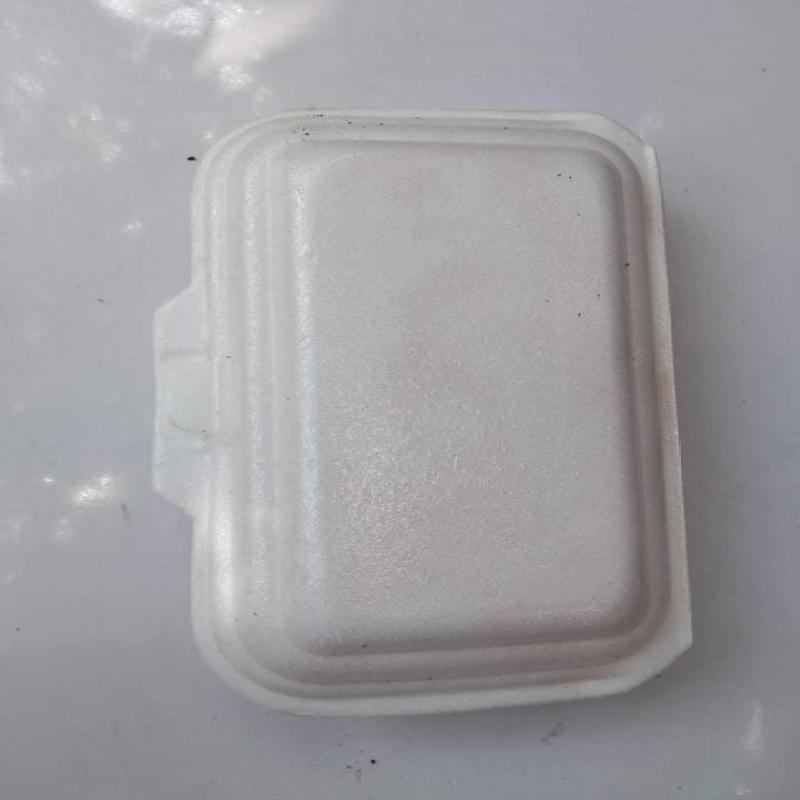styrofoam containers: (153, 108, 697, 722)
